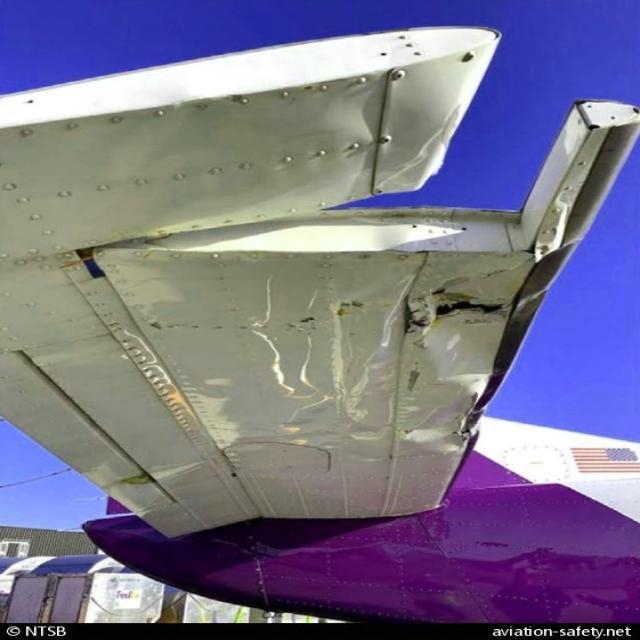dent: (414, 410, 470, 451)
